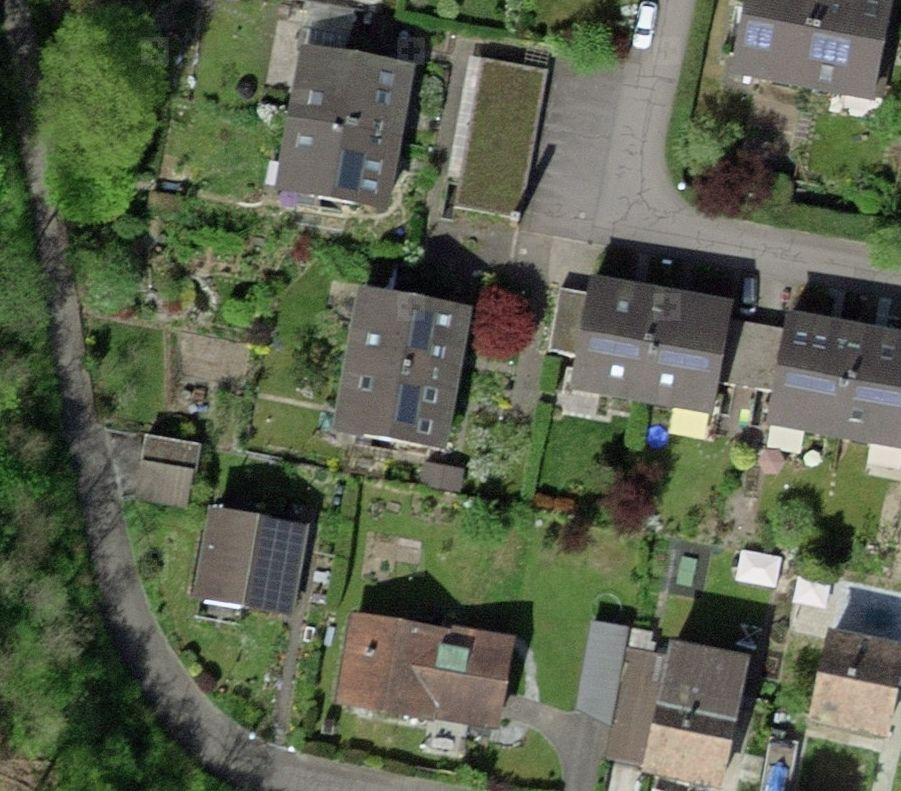solar: (245, 516, 308, 616), (798, 25, 858, 70), (649, 340, 716, 380), (776, 363, 840, 402), (329, 140, 371, 199), (397, 303, 440, 357), (584, 328, 640, 366), (389, 376, 427, 431), (847, 378, 901, 413), (735, 15, 779, 55)
